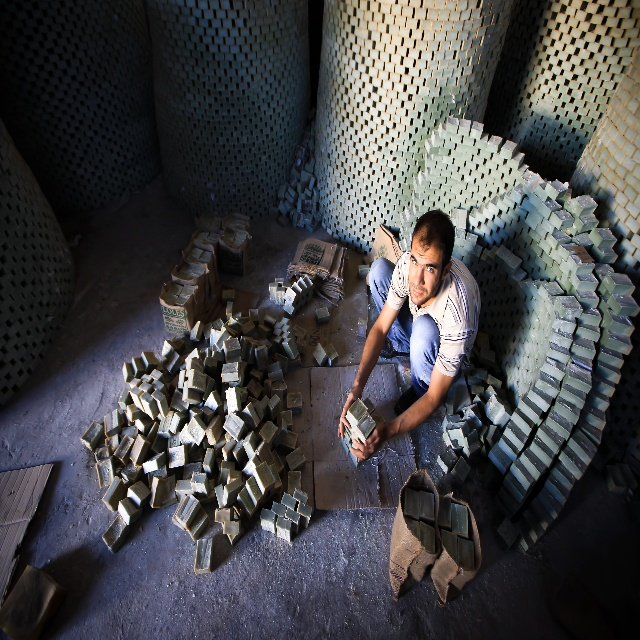Sin_guantes: (336, 390, 364, 441), (349, 426, 385, 463)
